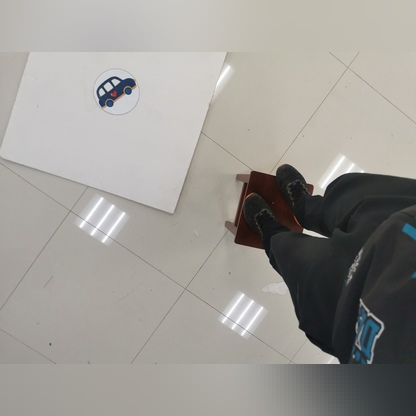car: (87, 64, 139, 119)
